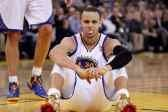10+: (1, 1, 168, 112)
